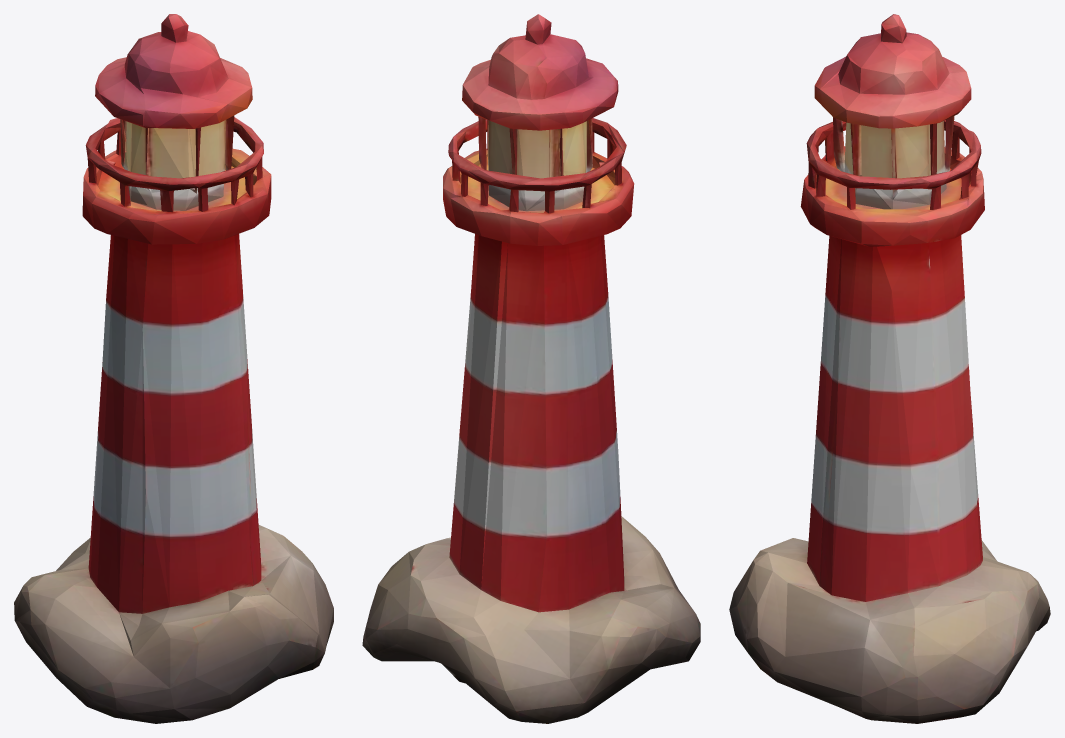
Rendered from lighthouse.glb.
3 renders of one model, left to right at view 1: azimuth 30°, elevation 25°; view 2: azimuth 150°, elevation 25°; view 3: azimuth 270°, elevation 25°, orthographic.
Visible parts, largest first — view 1: geometry_0; view 2: geometry_0; view 3: geometry_0.
Part boxes in pixels (left/top/right/bottom): geometry_0: left=14, top=14, right=333, bottom=723; geometry_0: left=362, top=14, right=700, bottom=723; geometry_0: left=729, top=14, right=1050, bottom=723.
Size of the model in its own units: 0.4635 by 0.9989 by 0.452.
1 material, 1 textured.
